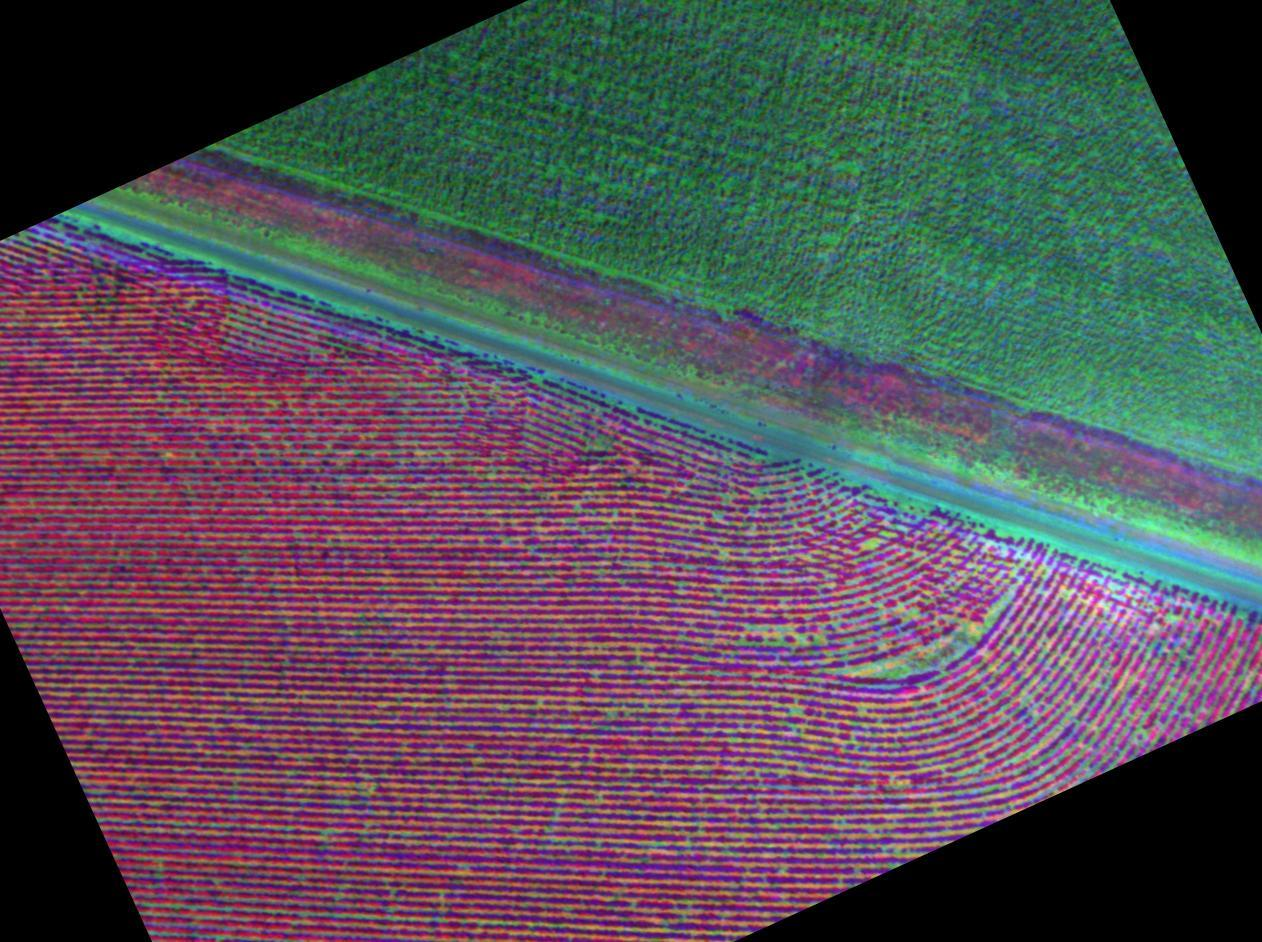dc: (826, 600, 1033, 697), (426, 408, 624, 472), (833, 505, 936, 571), (1003, 703, 1083, 762), (746, 608, 818, 664)
